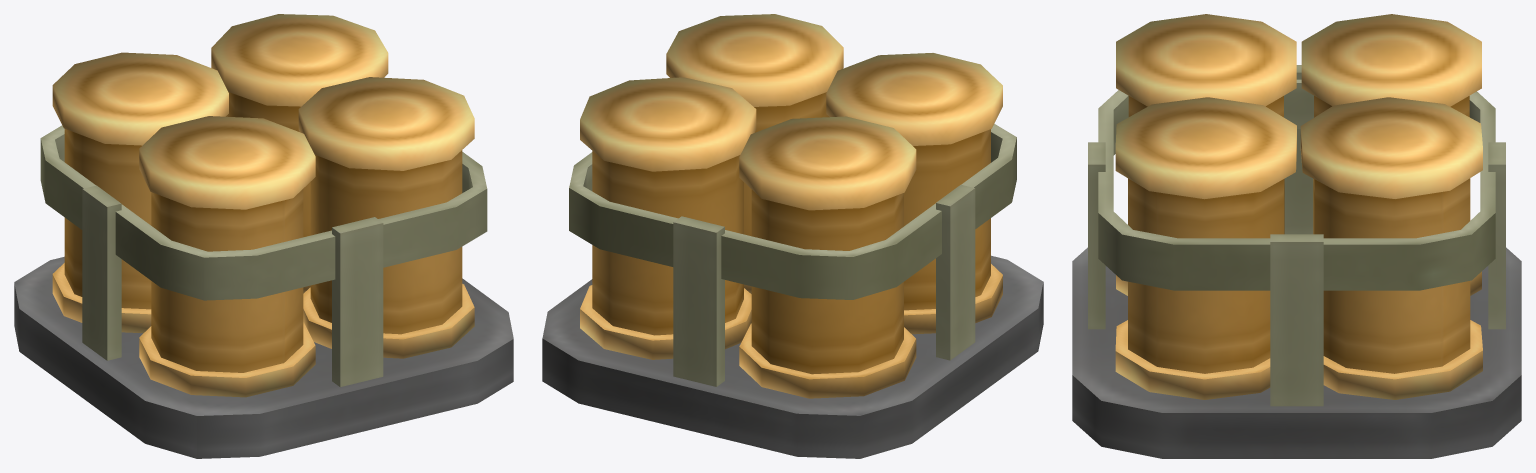
The model's file is Barrel_Stand_WBarrels.FBX.
3 views of the same model, side by side, from view 1: azimuth 30°, elevation 25°; view 2: azimuth 150°, elevation 25°; view 3: azimuth 270°, elevation 25° (orthographic). The views are drawn at different scales.
Visible parts, largest first — view 1: Barrel_Stand_WBarrels; view 2: Barrel_Stand_WBarrels; view 3: Barrel_Stand_WBarrels.
Part boxes in pixels (<box>): Barrel_Stand_WBarrels: <box>14,14,513,458</box>; Barrel_Stand_WBarrels: <box>542,14,1043,458</box>; Barrel_Stand_WBarrels: <box>1072,14,1521,458</box>.
Bounding box in the file's own units: 304 × 201 × 304.
